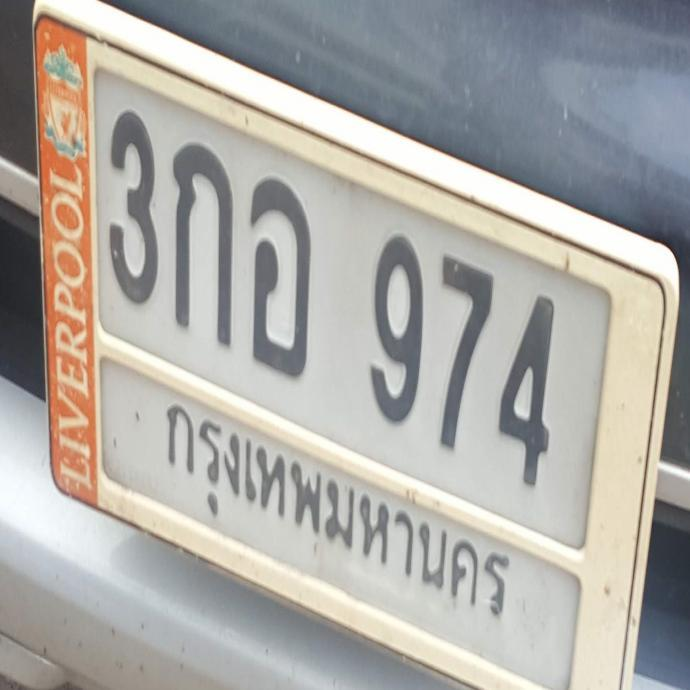3: (92, 94, 181, 316)
4: (465, 267, 576, 486)
7: (399, 242, 510, 456)
9: (336, 216, 444, 430)
A01: (138, 126, 258, 352)
A43: (217, 160, 339, 384)
BKK: (131, 388, 530, 636)
